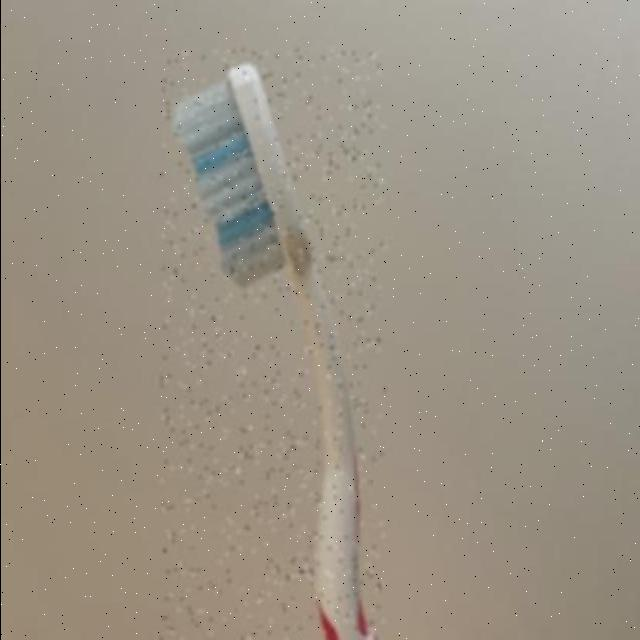toothbrush: (160, 50, 384, 640)
